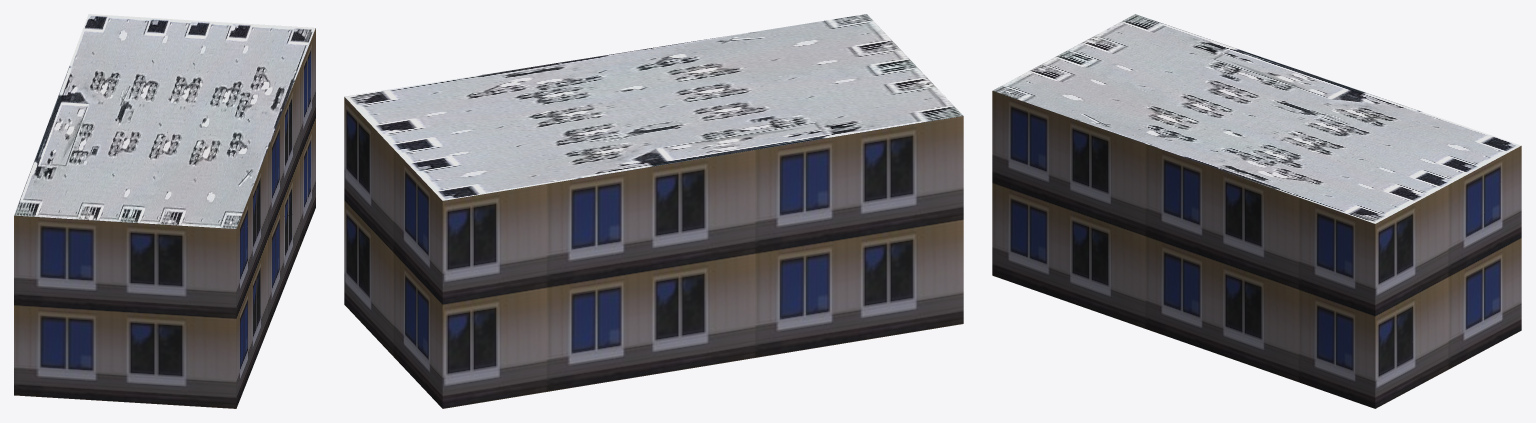
The model's file is ResTex__1989.fbx.
The picture shows the model from 3 angles, left to right: view 1: azimuth 30°, elevation 25°; view 2: azimuth 150°, elevation 25°; view 3: azimuth 270°, elevation 25°; orthographic projection. The views are drawn at different scales.
Parts seen in each view (by area): view 1: CityEngineMaterial_5_m, CityEngineMaterial_m; view 2: CityEngineMaterial_5_m, CityEngineMaterial_m; view 3: CityEngineMaterial_5_m, CityEngineMaterial_m.
Part boxes in pixels (bbox=[...]): CityEngineMaterial_5_m: bbox=[14, 28, 315, 408]; CityEngineMaterial_m: bbox=[14, 14, 315, 228]; CityEngineMaterial_5_m: bbox=[344, 97, 963, 408]; CityEngineMaterial_m: bbox=[345, 14, 963, 200]; CityEngineMaterial_5_m: bbox=[992, 91, 1521, 408]; CityEngineMaterial_m: bbox=[993, 14, 1520, 223].
Bounding box in the file's own units: 14.61 × 6 × 15.56.
2 materials, 2 textured.
